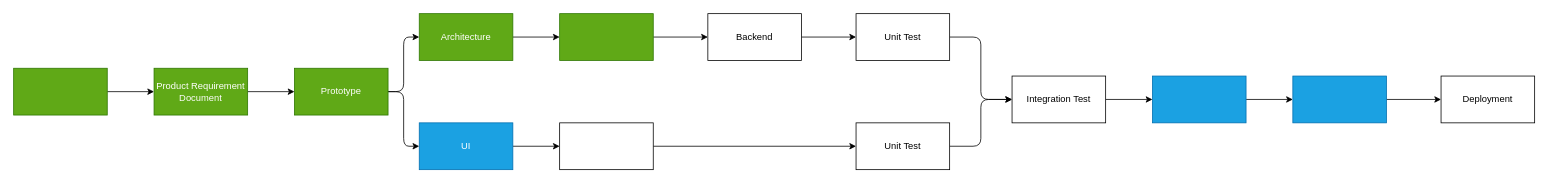
This 1548x183 diagram has some shape labels left out. The box of each missing label's shape, as (x1, y1, x2, y2) in pixels:
Business Requirement Document: (13, 67, 107, 115)
Database: (559, 13, 653, 60)
Frontend: (559, 122, 653, 170)
System test: (1152, 75, 1246, 123)
User Acceptance Test: (1292, 75, 1386, 123)
